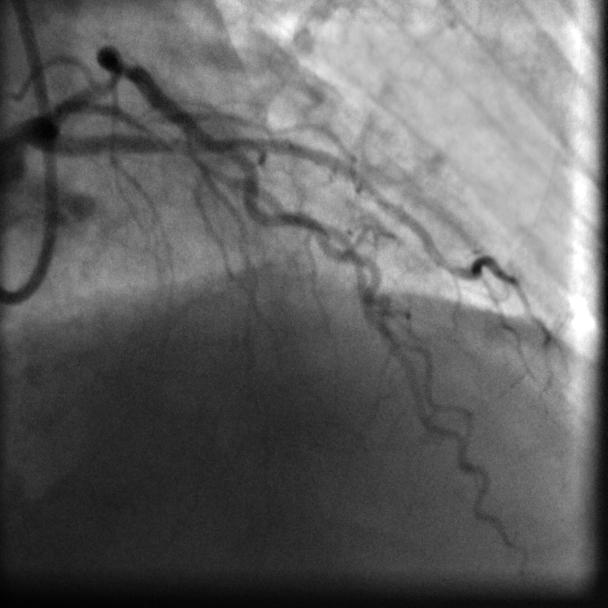Stenosis: (112, 51, 139, 90)
